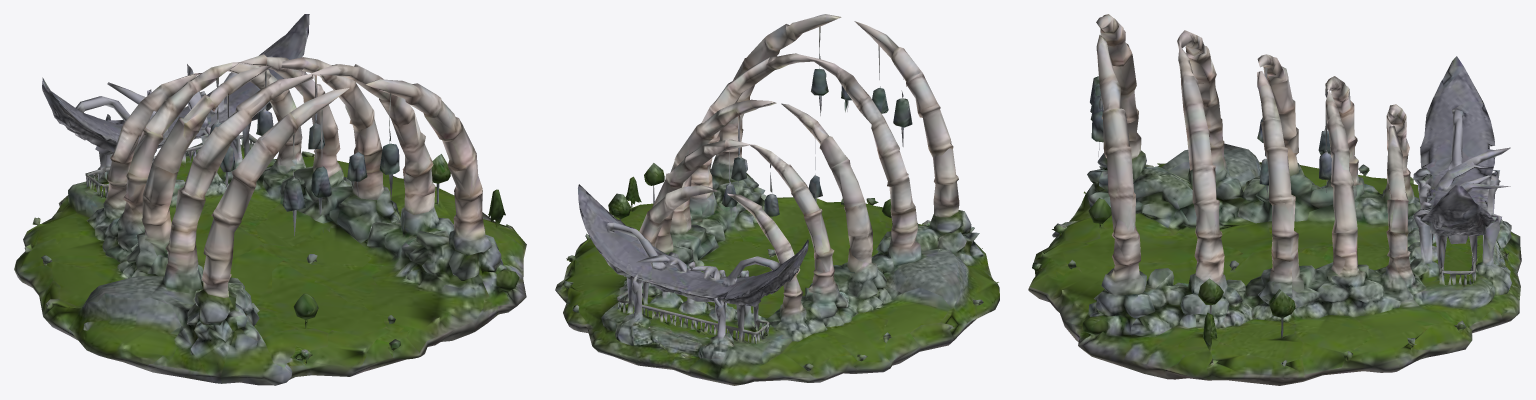
File: 10-stage-three-gate.glb
3 views of the same model, side by side, from view 1: azimuth 30°, elevation 25°; view 2: azimuth 150°, elevation 25°; view 3: azimuth 270°, elevation 25° (orthographic). The views are drawn at different scales.
Parts seen in each view (by area): view 1: tripo_node_51a714bd-8be3-476f-a15c-3b6dd76e10e6; view 2: tripo_node_51a714bd-8be3-476f-a15c-3b6dd76e10e6; view 3: tripo_node_51a714bd-8be3-476f-a15c-3b6dd76e10e6.
Boxes of the visible parts, x1,y1,x2,y2 form: tripo_node_51a714bd-8be3-476f-a15c-3b6dd76e10e6: (14,14,526,385); tripo_node_51a714bd-8be3-476f-a15c-3b6dd76e10e6: (555,14,999,385); tripo_node_51a714bd-8be3-476f-a15c-3b6dd76e10e6: (1028,14,1521,385).
Size of the model in its own units: 3.03 by 2.09 by 3.
1 material, 1 textured.
